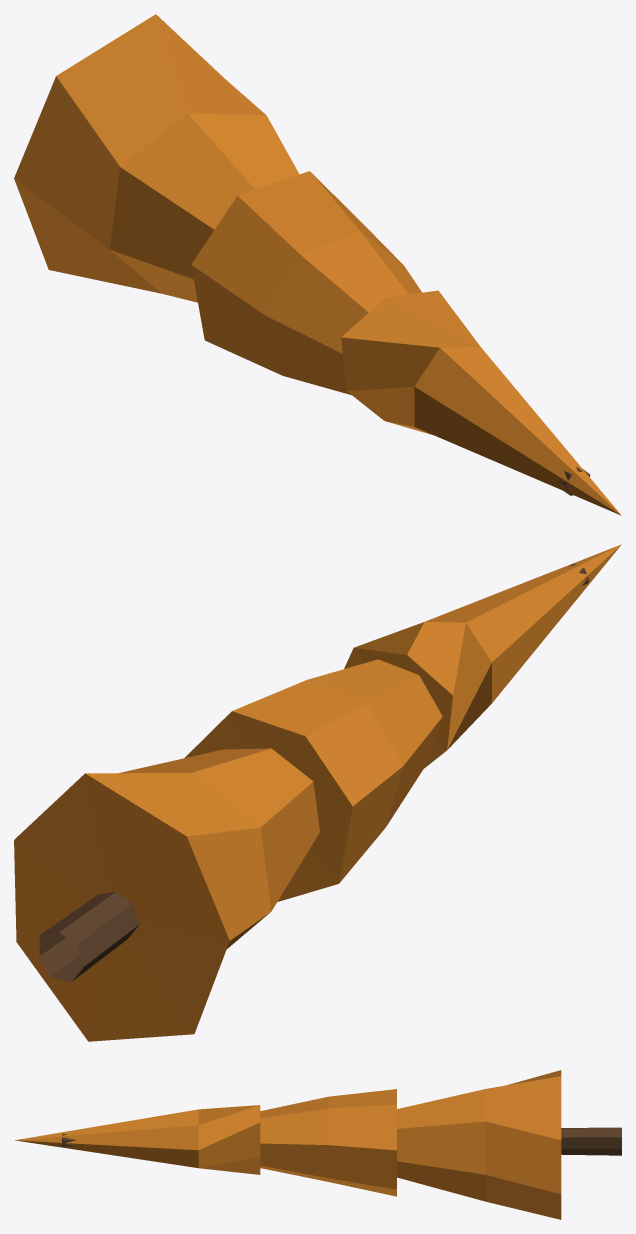
Rendered from dying_0.glb.
The picture shows the model from 3 angles, top to bottom: view 1: azimuth 30°, elevation 25°; view 2: azimuth 150°, elevation 25°; view 3: azimuth 270°, elevation 25°; orthographic projection. The views are drawn at different scales.
Parts seen in each view (by area): view 1: tree_09_dying_0; view 2: tree_09_dying_0; view 3: tree_09_dying_0.
Boxes of the visible parts, box(x1,y1,x2,y2) form: tree_09_dying_0: box(14, 14, 621, 515); tree_09_dying_0: box(14, 544, 621, 1041); tree_09_dying_0: box(15, 1070, 621, 1219).
Size of the model in its own units: 8.47 by 10.03 by 38.21.
